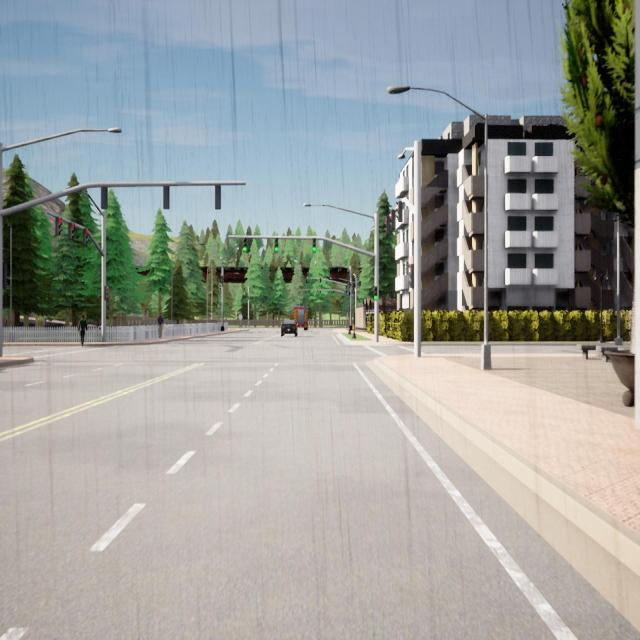Pedestrian: (78, 314, 88, 347), (156, 312, 164, 339)
Traffic_Signs: (239, 314, 242, 320)
Vehicle: (292, 306, 308, 330), (281, 320, 297, 337)
traffic_light: (407, 264, 414, 288), (101, 186, 108, 209), (163, 186, 170, 209), (215, 185, 221, 209), (68, 223, 76, 240), (396, 201, 402, 222), (390, 209, 396, 229), (384, 216, 390, 235), (56, 217, 62, 235), (84, 229, 90, 246), (104, 286, 109, 300), (244, 238, 248, 253), (274, 238, 278, 252), (312, 238, 316, 252), (374, 287, 378, 300), (319, 278, 322, 286), (308, 290, 310, 297), (319, 291, 321, 296), (246, 293, 248, 297), (333, 290, 334, 296), (249, 309, 250, 314)
